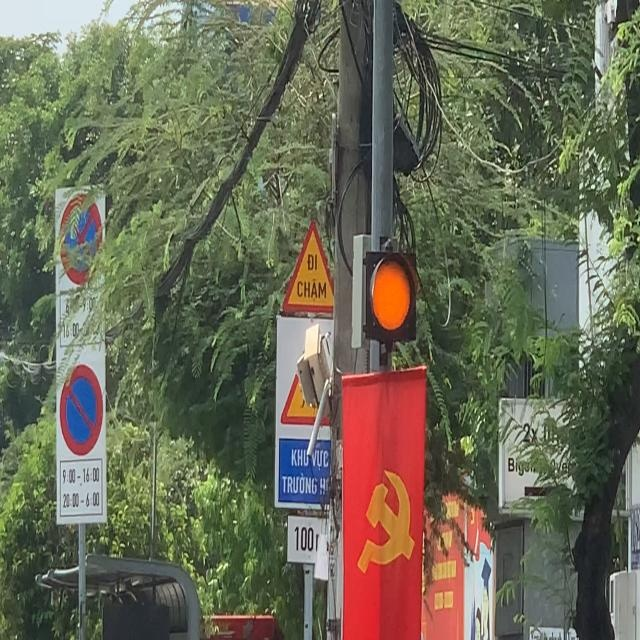bien_cam: (281, 218, 344, 320)
